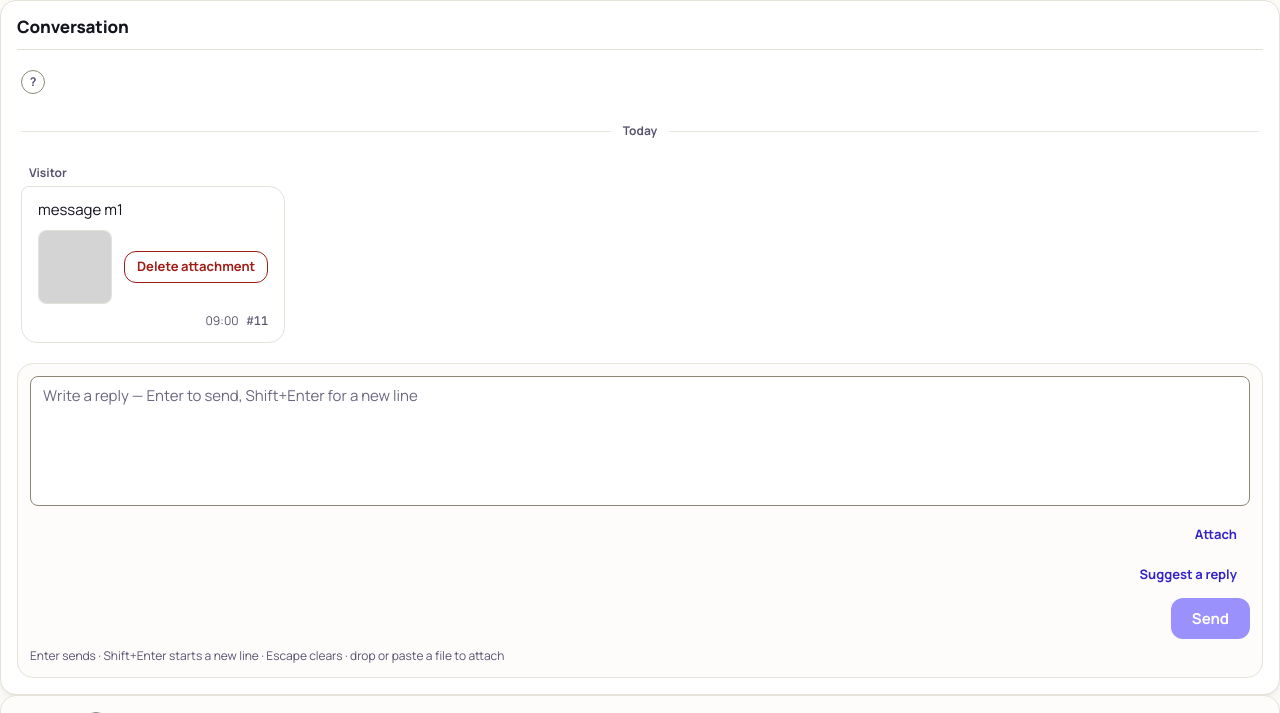
Scenario: the attachment actions on a message › offers it to an operator who holds the permission
Click the button "Delete attachment".
click(196, 267)  # box [124,251,268,283]
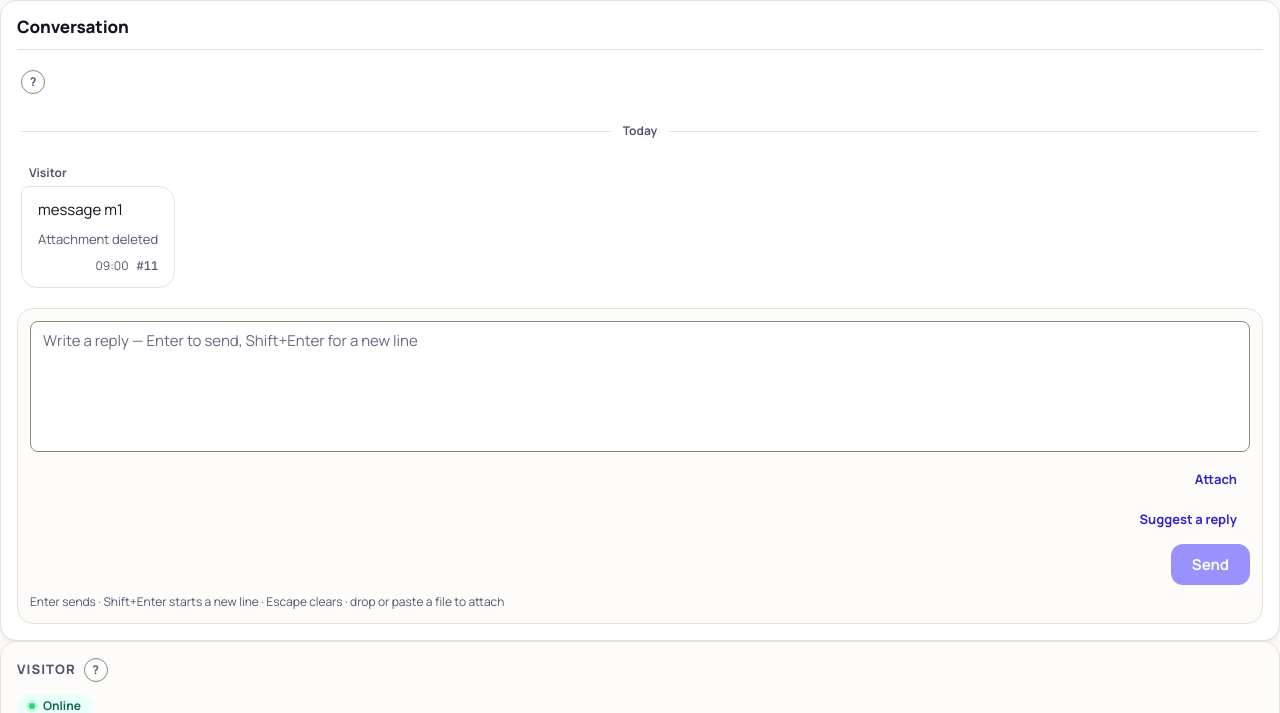
Result: the text "Attachment deleted" is shown at [38,230,158,249]
